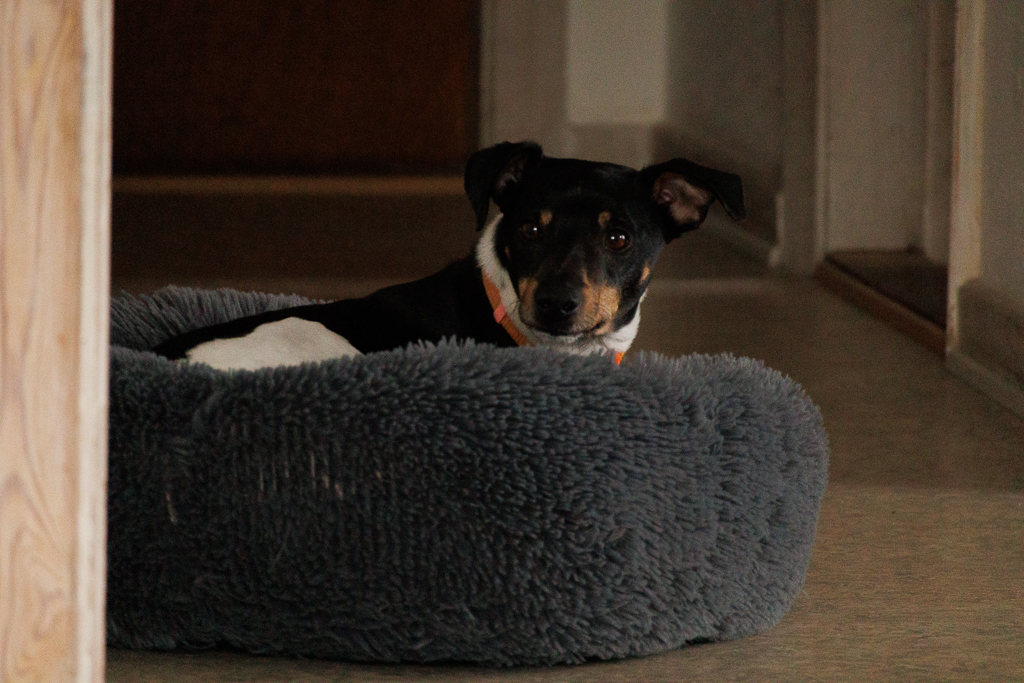Dog: (140, 132, 757, 399)
